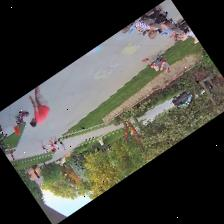person: (28, 86, 48, 126), (128, 21, 155, 38), (141, 58, 169, 71), (159, 23, 179, 41), (180, 27, 197, 42), (6, 144, 13, 159), (39, 141, 46, 153), (121, 25, 129, 33), (51, 138, 57, 148), (58, 139, 64, 149)
